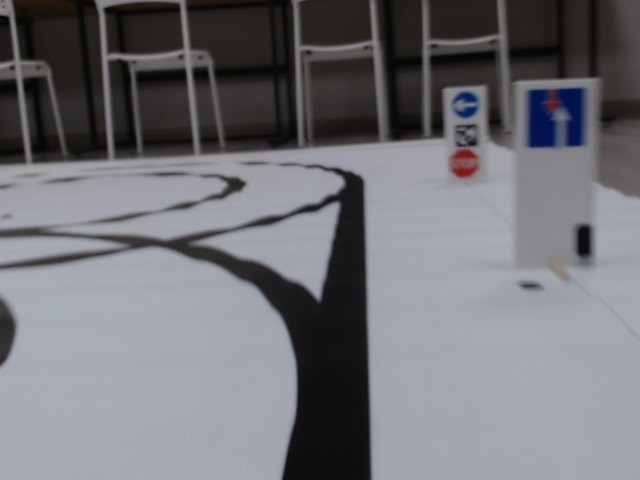Stop: (449, 150, 480, 179)
priority_movement: (525, 88, 588, 149)
